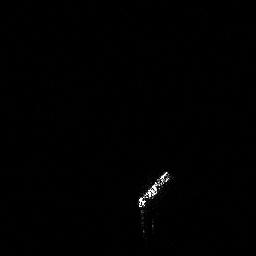ship: (132, 167, 176, 211)
